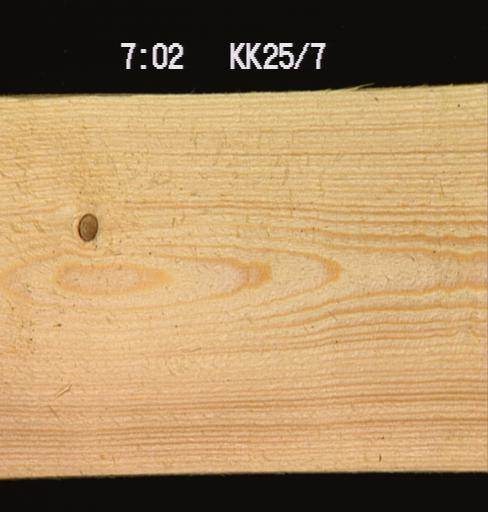dry_knot: (74, 209, 98, 242)
